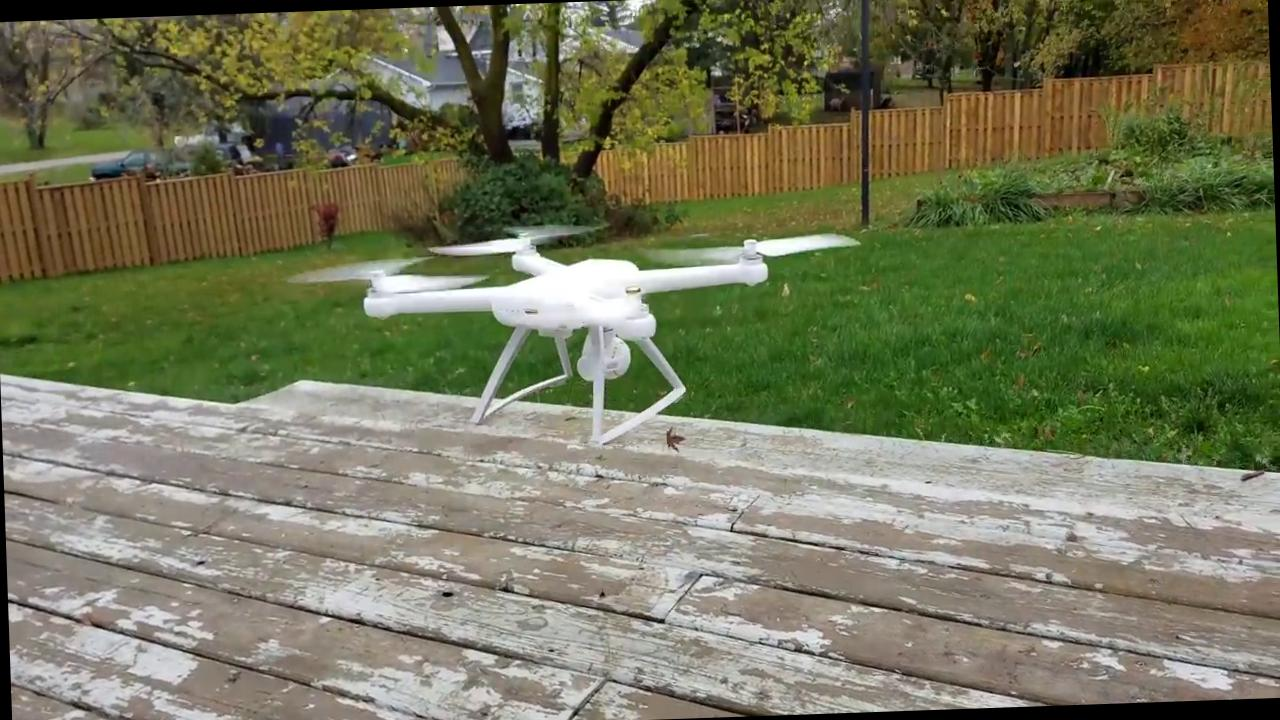drone: (309, 197, 886, 380)
